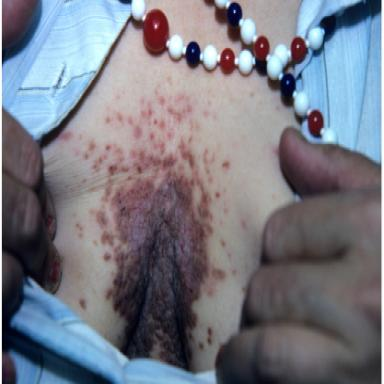Darier_s-Disease: (83, 86, 225, 374)
